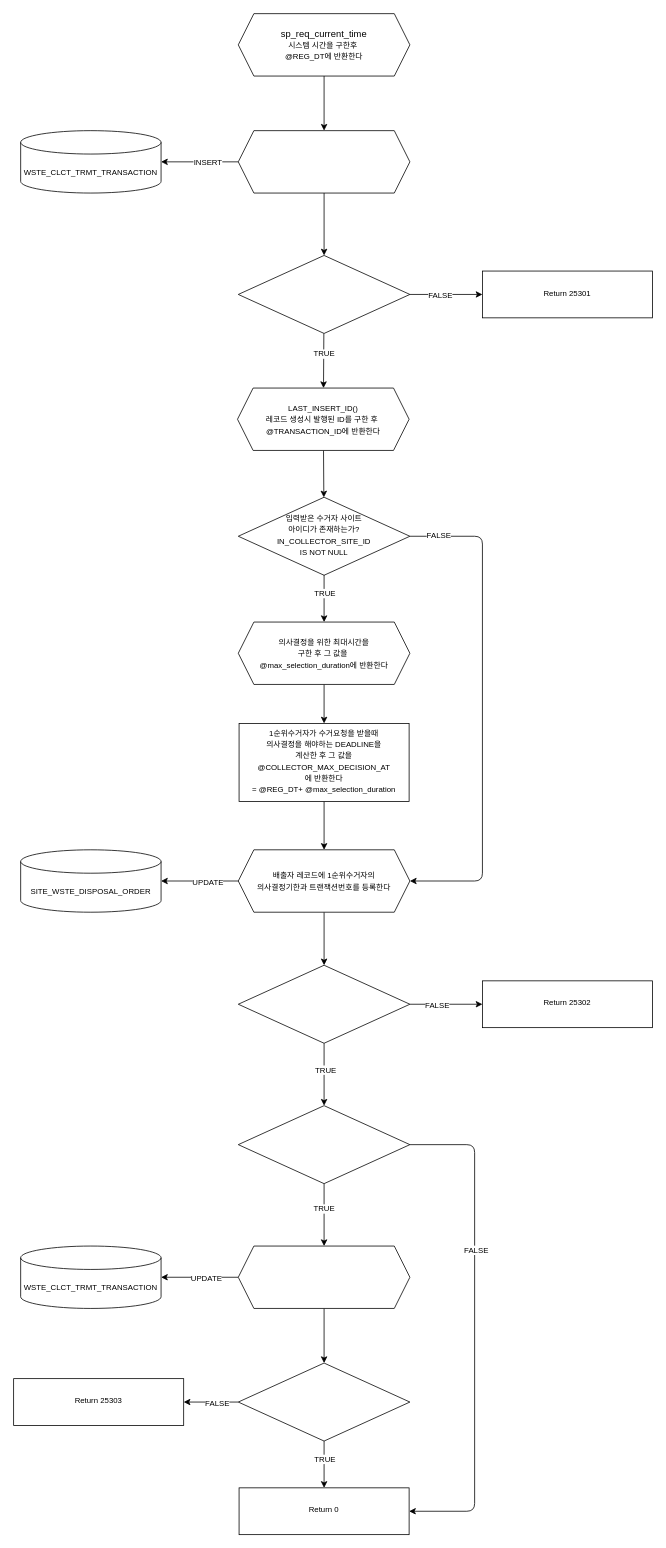
Some shapes in this 666 by 1548 pixel diagram are drawn without their labels. The shapes that lost their labels are listed below. From the top down, each one's box as (x1, y1, x2, y2) in pixels, then its label:
(238, 130, 410, 193): 트랜잭션 레코드를 생성한다
(238, 255, 410, 333): 레코드가 성공적으로 생성되었는가? ROW_COUNT() = 1
(238, 964, 410, 1043): 레코드 등록에 성공하였는가? ROW_COUNT() = 1
(238, 1105, 410, 1184): 수거자 사이트 아이디가 존재(기존거래)하는가? IN_COLLECTOR_SITE_ID IS NOT NULL
(238, 1245, 410, 1308): 트랜잭션 레코드의 수거자 결정기한을 변경한다
(238, 1362, 410, 1441): 레코드가 정상적으로 변경되었는가? ROW_COUNT() = 1
